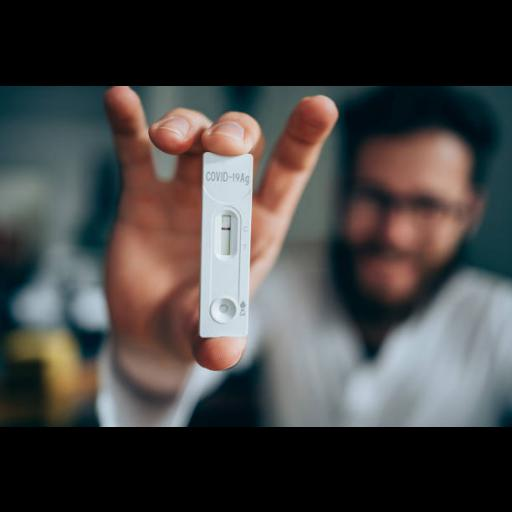Neg: (203, 151, 251, 335)
